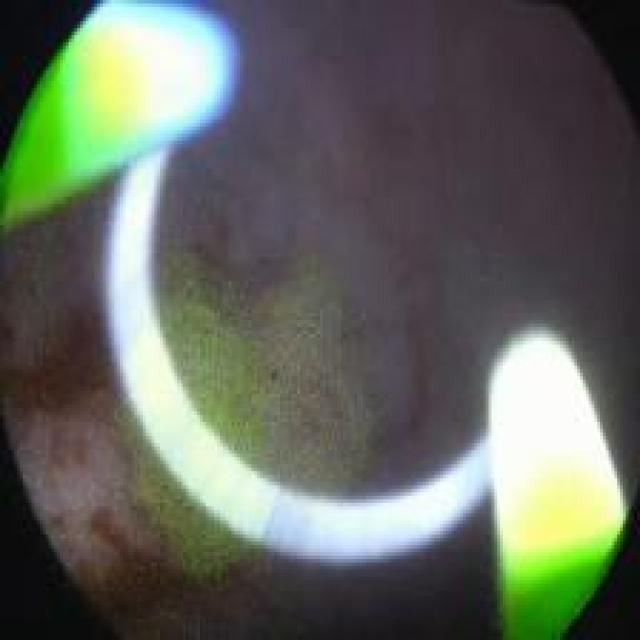color misalignment: (266, 370, 281, 388)
contrast: (119, 536, 502, 636)
instrument: (93, 138, 491, 561), (6, 0, 231, 225), (482, 325, 629, 640)
